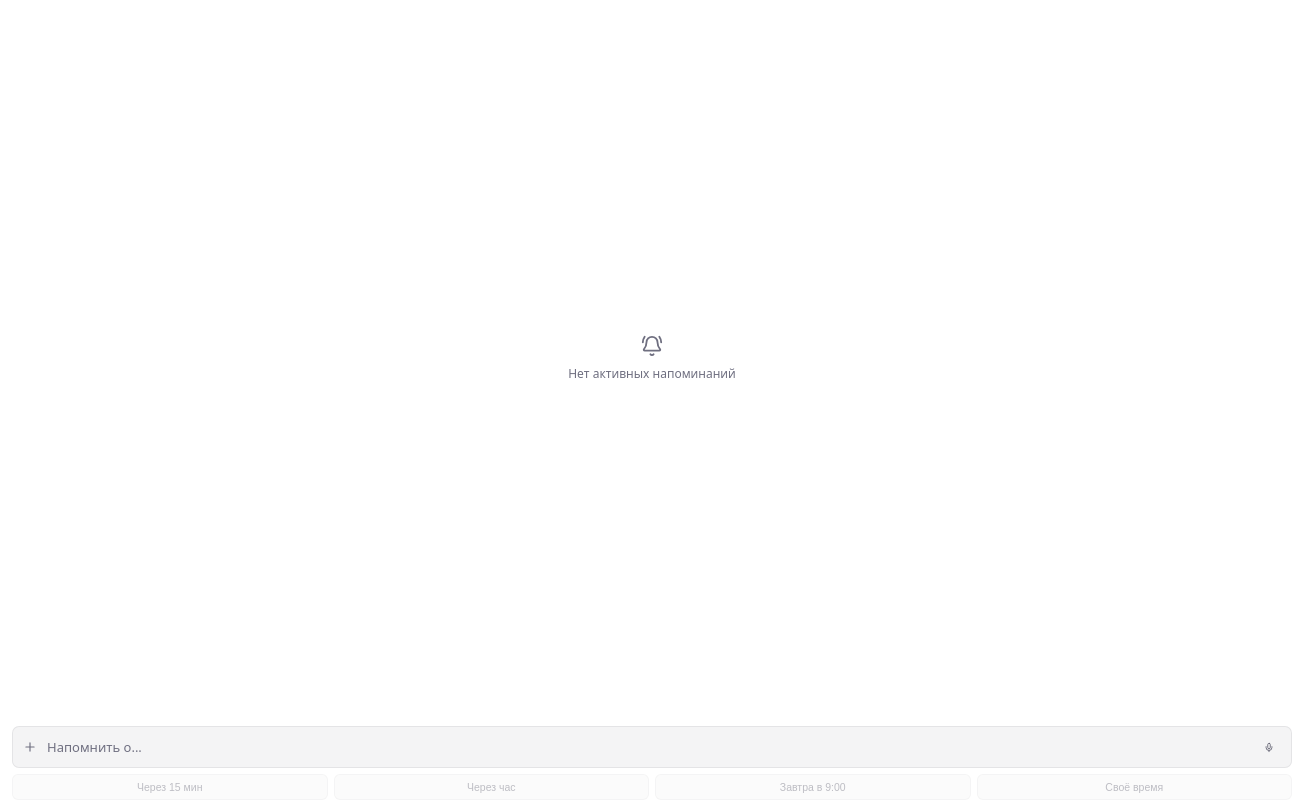
RemindersView › disables presets until a title is entered, then creates a reminder
This screenshot has width=1304, height=800.
Expected: the text "Нет активных напоминаний" is shown, [568,364,736,382]
Expected: the button "Через 15 мин" is disabled, [12,774,328,799]
In the field with placeholder "Напомнить о...": (647, 747) [45,737,1249,757], type "Позвонить клиенту"
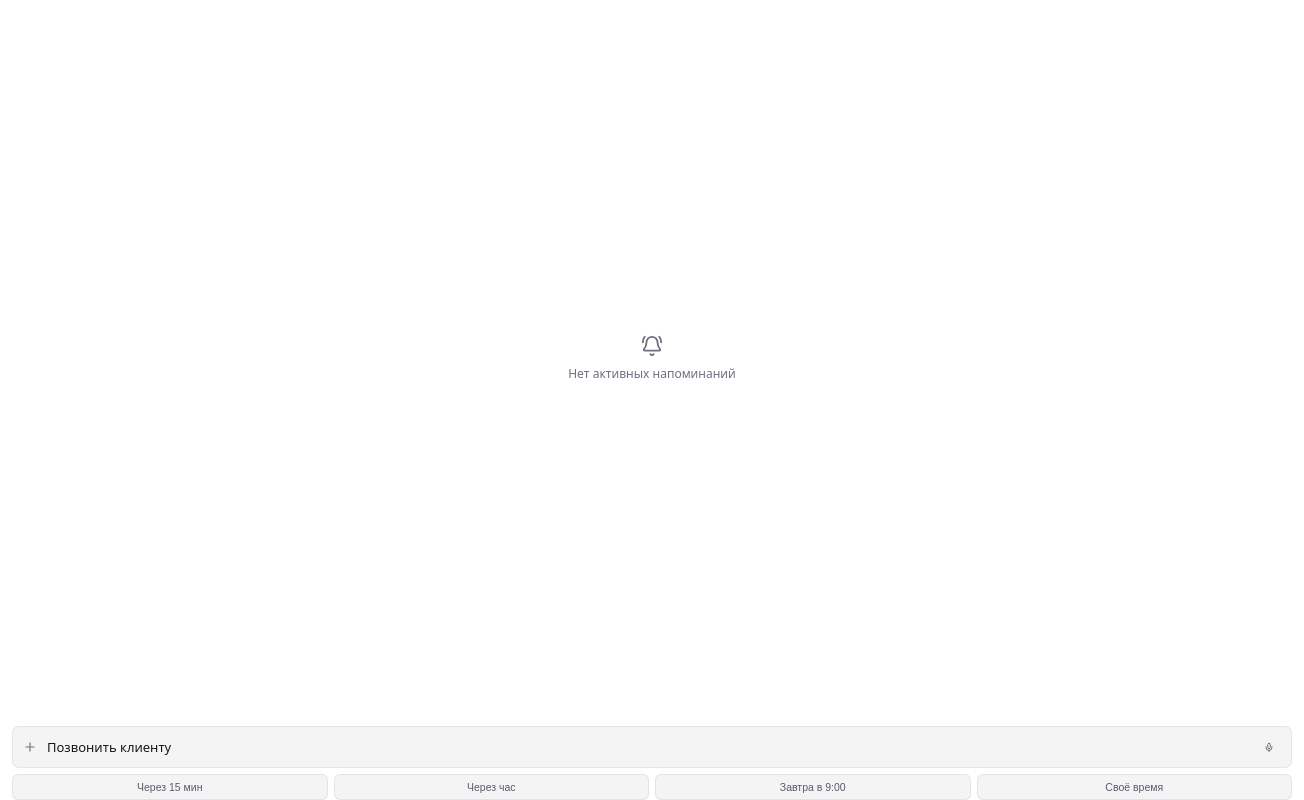
Now the button "Через 15 мин" is enabled
Click the button "Через 15 мин": (170, 787) [12,774,328,799]
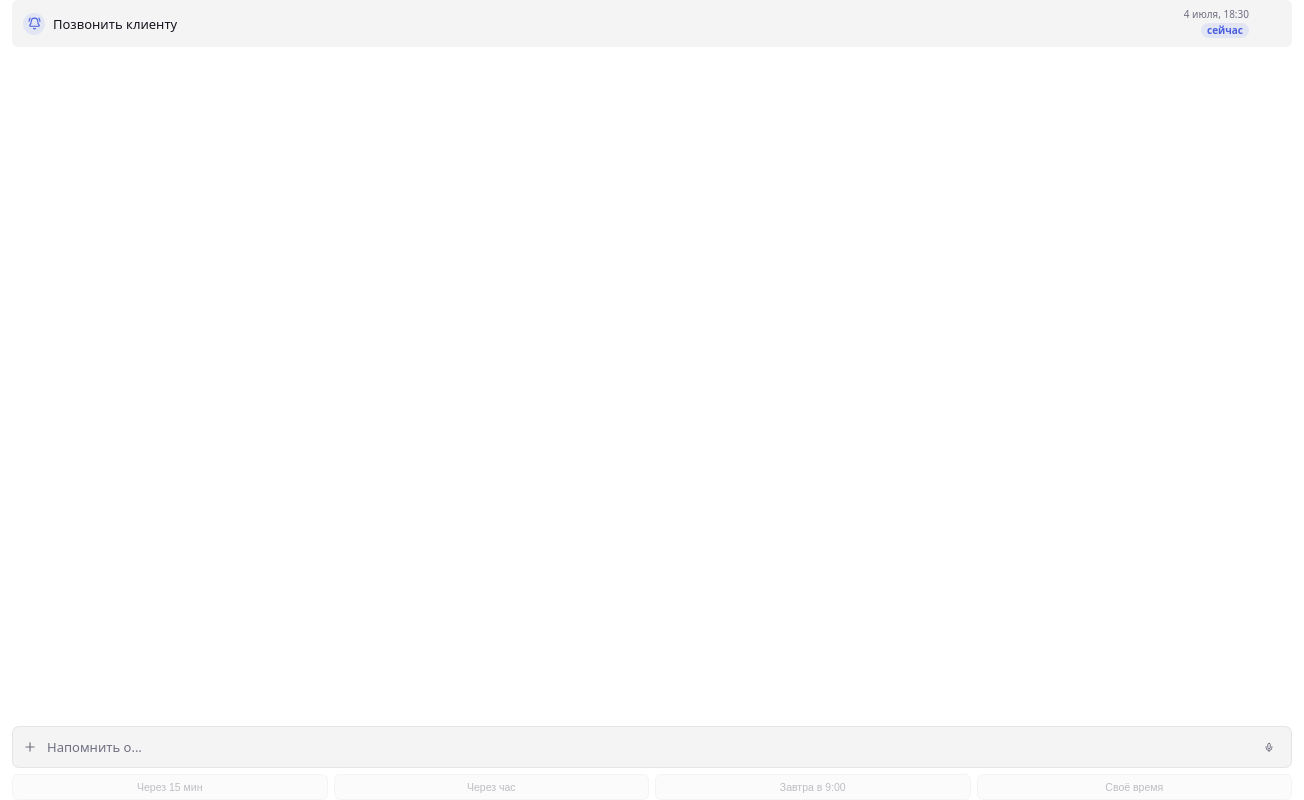
Now the button "Позвонить клиенту" is shown, box [53,14,1165,32]
